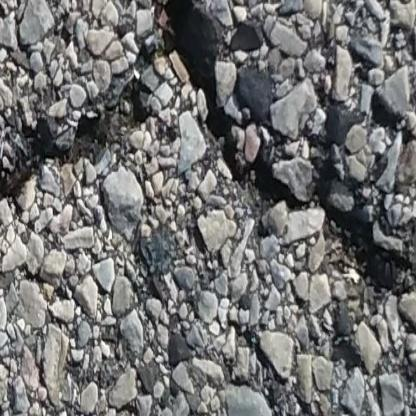Cracks: (0, 0, 416, 304)
